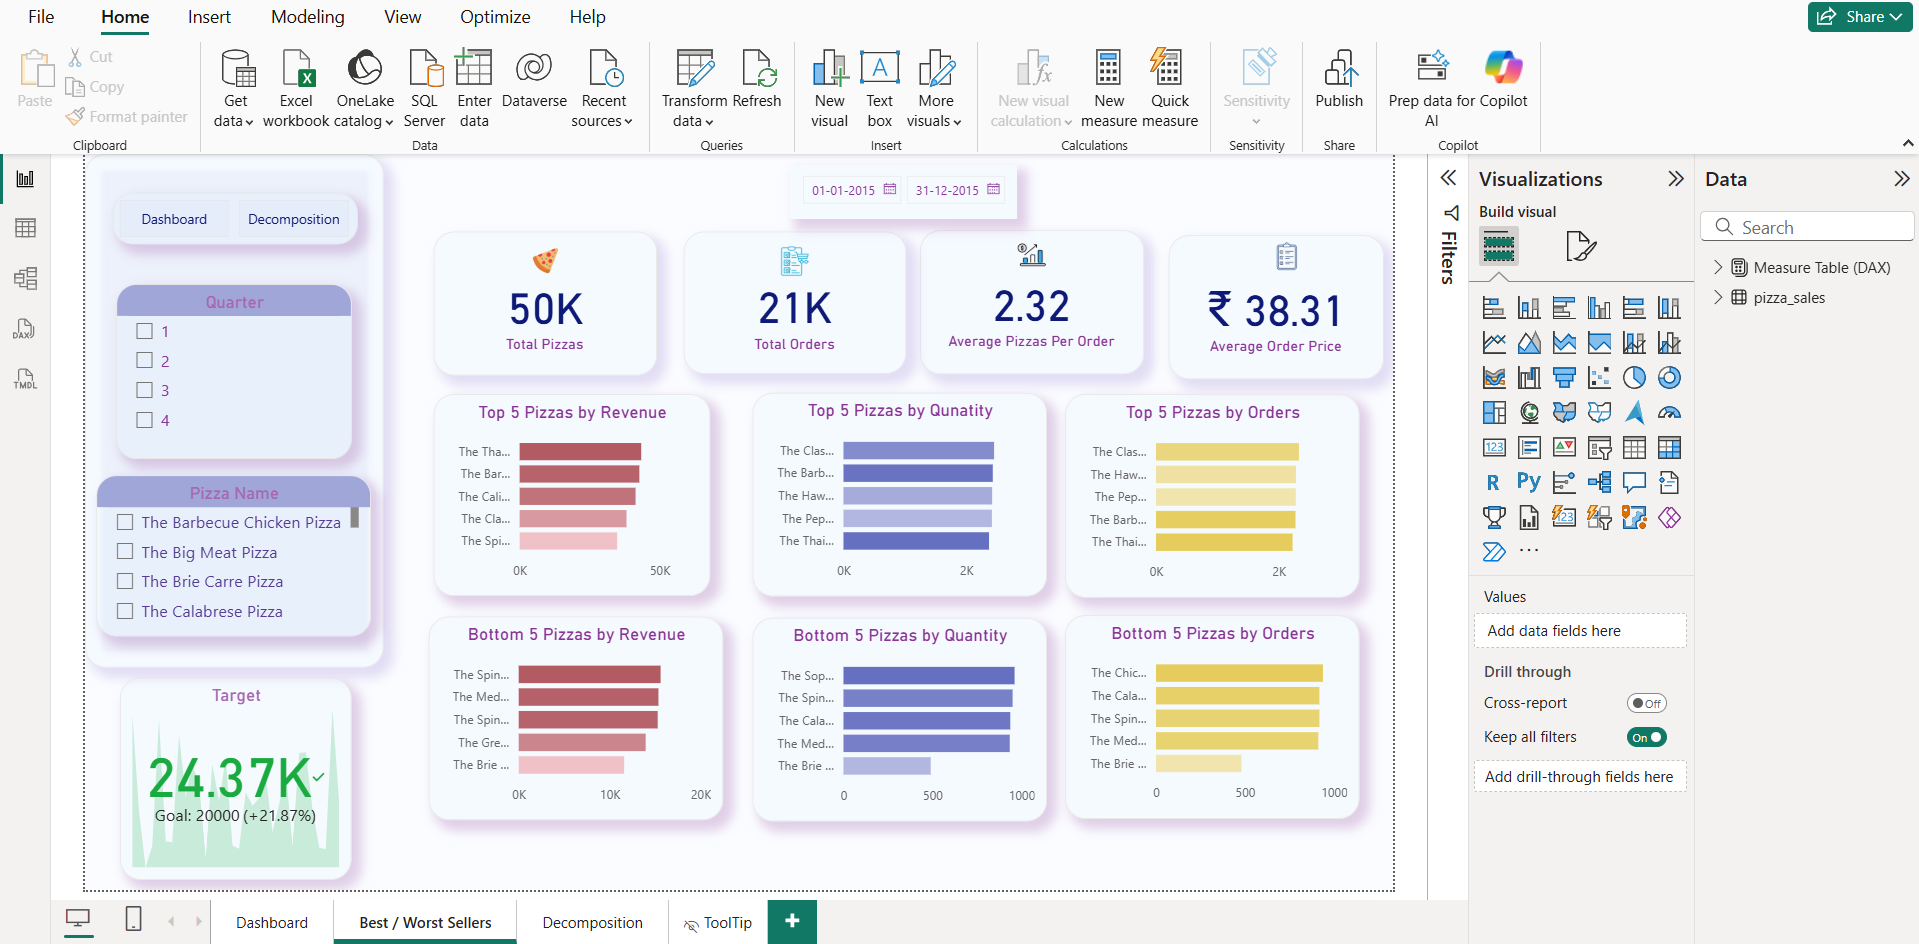

Layout of this report page (visuals, bound fields, positions):
{"tool":"powerbi","page":{"name":"Best / Worst Sellers","canvas":[1280,720],"ordinal":1},"visuals":[{"type":"card","title":"Avg Order Price","fields":{"Values":["Measure Table (DAX).Average Order Price"]},"box":[1060.2,79.5,210.3,140.6],"z":0},{"type":"card","title":"Avg Pizza Per Order","fields":{"Values":["Measure Table (DAX).Average Pizza Per Order"]},"box":[816.9,74.6,218.9,140.6],"z":1000},{"type":"card","title":"Total Orders","fields":{"Values":["Measure Table (DAX).Total Orders"]},"box":[585.7,75.8,217.7,139.4],"z":2000},{"type":"card","title":"Total Pizzas","fields":{"Values":["Measure Table (DAX).Total Pizzas"]},"box":[341.2,75.8,218,140.6],"z":3000},{"type":"image","box":[432.9,81.9,35.5,45.2],"z":4000},{"type":"image","box":[675,81.9,39.1,48.9],"z":5000},{"type":"image","box":[1156.8,81.9,37.9,40.4],"z":6000},{"type":"image","box":[907.3,75.8,37.9,48.9],"z":7000},{"type":"shape","box":[0,0,292.3,502.2],"z":8000},{"type":"slicer","title":"Quarter","fields":{"Values":["pizza_sales.Quarter"]},"box":[30.2,127.6,230.5,171.5],"z":9000},{"type":"slicer","title":"Pizza Name","fields":{"Values":["pizza_sales.pizza_name"]},"box":[11,314.2,269,157.8],"z":10000},{"type":"slicer","fields":{"Values":["pizza_sales.order_date"]},"box":[689.7,11,222.6,52.6],"z":11000},{"type":"kpi","title":"Target","fields":{"Indicator":["Measure Table (DAX).Total Revenue"],"Goal":["Measure Table (DAX).Target"],"TrendLine":["pizza_sales.pizza_name"]},"box":[34.3,511.8,226.4,197.6],"z":12000},{"type":"barChart","title":"Top 5 Pizzas by Revenue","fields":{"Y":["Measure Table (DAX).Total Revenue"],"Category":["pizza_sales.pizza_name"]},"box":[341.7,234.6,270.3,197.6],"z":13000},{"type":"barChart","title":"Bottom 5 Pizzas by Revenue","fields":{"Y":["Measure Table (DAX).Total Revenue"],"Category":["pizza_sales.pizza_name"]},"box":[336.3,452.4,288,199.3],"z":14000},{"type":"barChart","title":"Top 5 Pizzas by Qunatity","fields":{"Category":["pizza_sales.pizza_name"],"Y":["Measure Table (DAX).Total Pizzas"]},"box":[653.2,233.3,288.2,199],"z":15000},{"type":"barChart","title":"Bottom 5 Pizzas by Quantity","fields":{"Category":["pizza_sales.pizza_name"],"Y":["Measure Table (DAX).Total Pizzas"]},"box":[653.2,454.2,288.2,199],"z":16000},{"type":"barChart","title":"Bottom 5 Pizzas by Orders","fields":{"Category":["pizza_sales.pizza_name"],"Y":["Measure Table (DAX).Total Orders"]},"box":[959.2,451.5,288.2,199],"z":17000},{"type":"barChart","title":"Top 5 Pizzas by Orders","fields":{"Category":["pizza_sales.pizza_name"],"Y":["Measure Table (DAX).Total Orders"]},"box":[959.2,234.6,288.2,199],"z":18000},{"type":"pageNavigator","box":[26.9,37.9,239.7,50.1],"z":19000}]}

Visuals, with their boxes on the page's 1280x720 design canvas (x1, y1, x2, y2). These are canvas units, not pixel positions in the 1919x944 screenshot, which may show the page scaled, cropped or inside an application window:
"Avg Order Price" card: (1060,80,1270,220)
"Avg Pizza Per Order" card: (817,75,1036,215)
"Total Orders" card: (586,76,803,215)
"Total Pizzas" card: (341,76,559,216)
image: (433,82,468,127)
image: (675,82,714,131)
image: (1157,82,1195,122)
image: (907,76,945,125)
shape: (0,0,292,502)
"Quarter" slicer: (30,128,261,299)
"Pizza Name" slicer: (11,314,280,472)
slicer - pizza_sales.order_date: (690,11,912,64)
"Target" kpi: (34,512,261,709)
"Top 5 Pizzas by Revenue" barChart: (342,235,612,432)
"Bottom 5 Pizzas by Revenue" barChart: (336,452,624,652)
"Top 5 Pizzas by Qunatity" barChart: (653,233,941,432)
"Bottom 5 Pizzas by Quantity" barChart: (653,454,941,653)
"Bottom 5 Pizzas by Orders" barChart: (959,452,1247,650)
"Top 5 Pizzas by Orders" barChart: (959,235,1247,434)
pageNavigator: (27,38,267,88)
